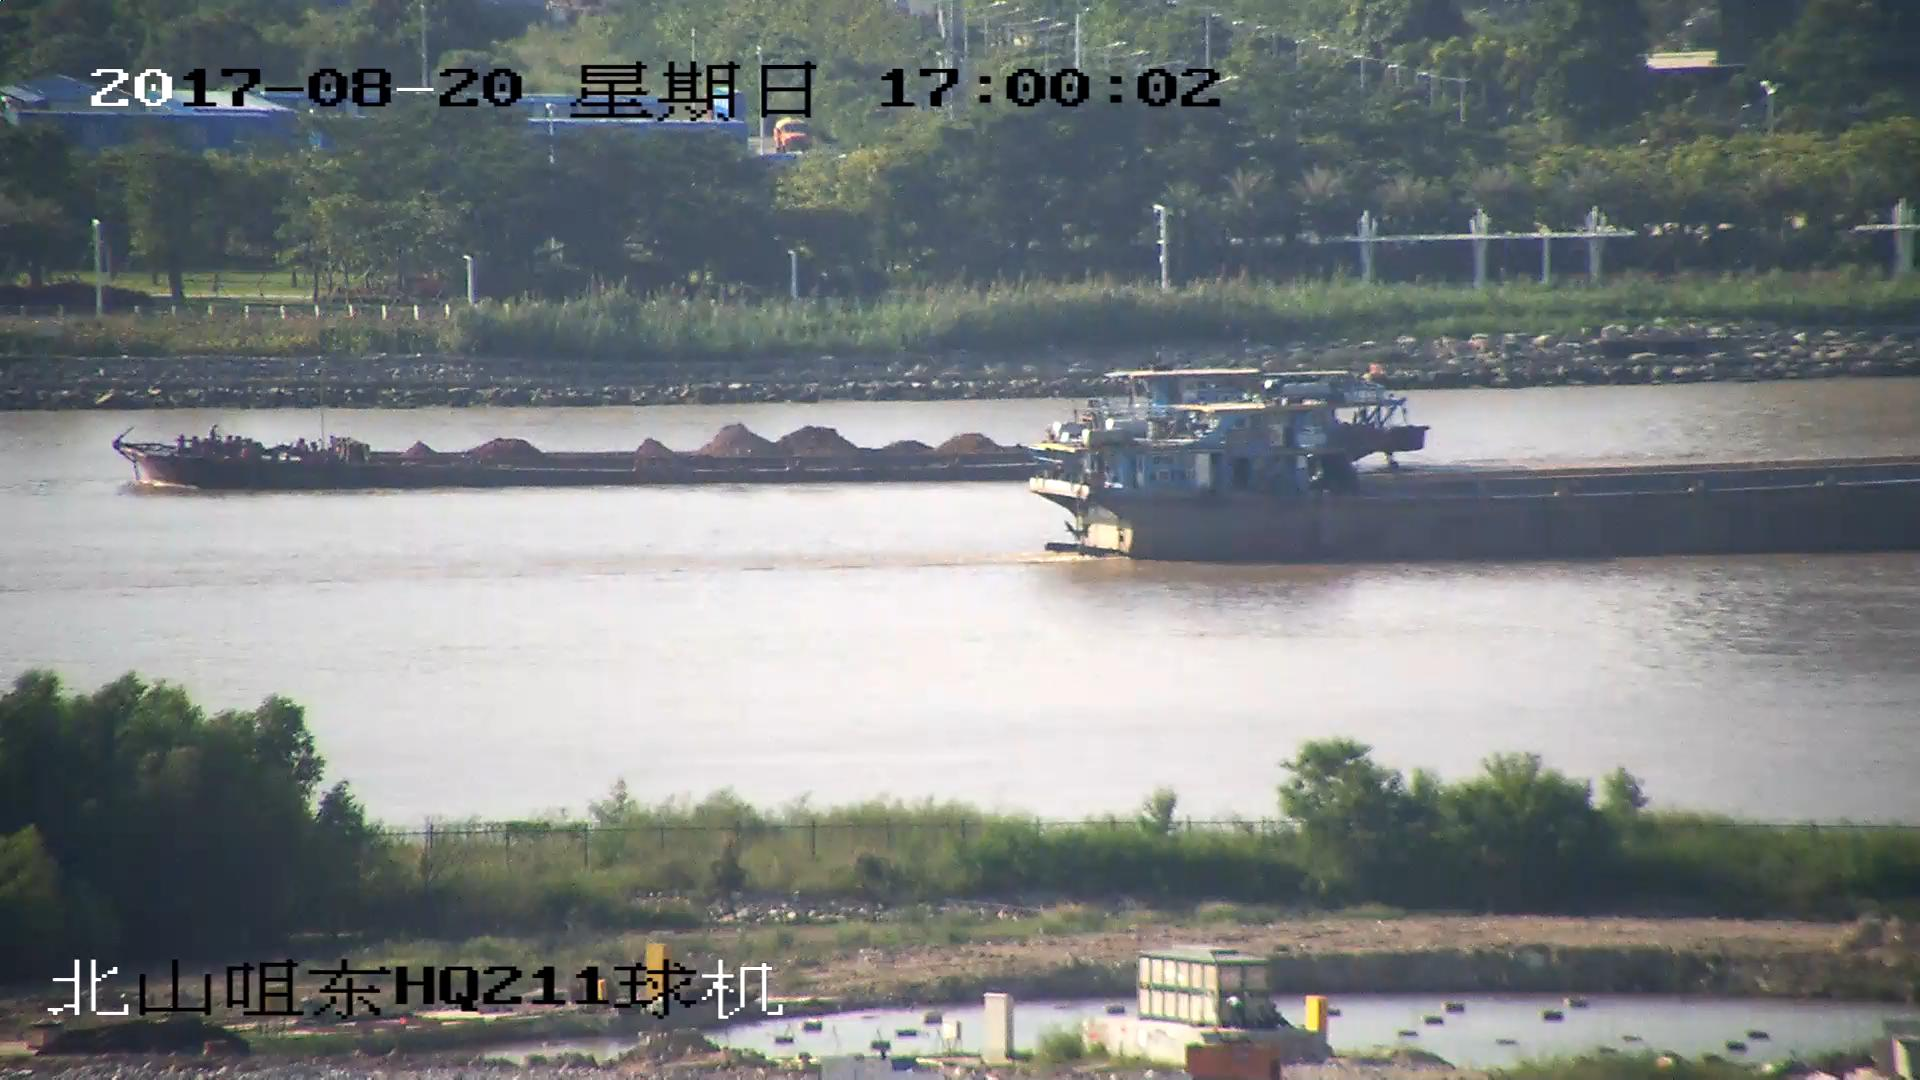bulk cargo carrier: (1025, 403, 1920, 569)
ore carrier: (121, 356, 1431, 495)
